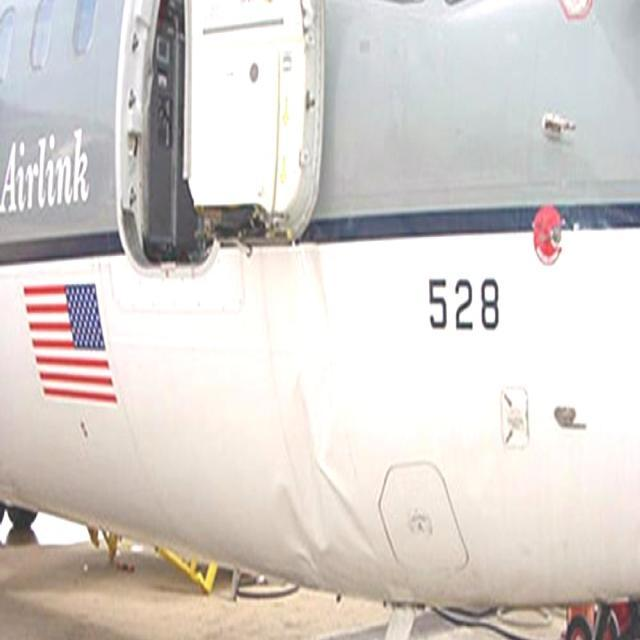dent: (276, 238, 382, 578)
